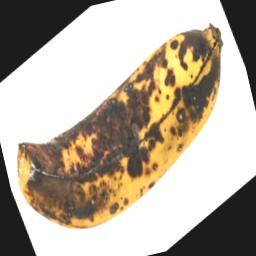Banana Rotten: (0, 8, 256, 253)
